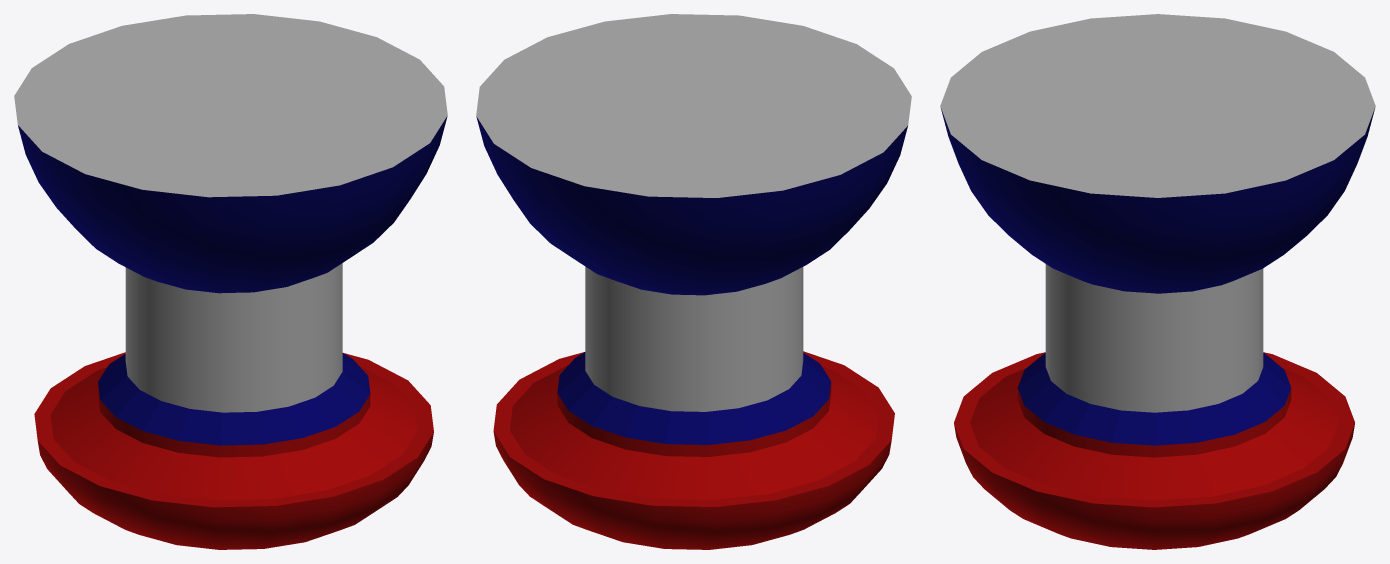
The model's file is S3_Bottom.fbx.
3 renders of one model, left to right at view 1: azimuth 30°, elevation 25°; view 2: azimuth 150°, elevation 25°; view 3: azimuth 270°, elevation 25°, orthographic.
Parts seen in each view (by area): view 1: pSphere5; view 2: pSphere5; view 3: pSphere5.
Part boxes in pixels (x1,y1,x2,y2): pSphere5: [14, 14, 447, 549]; pSphere5: [476, 14, 911, 549]; pSphere5: [940, 14, 1375, 549].
Bounding box in the file's own units: 13.52 × 14.09 × 13.52.
